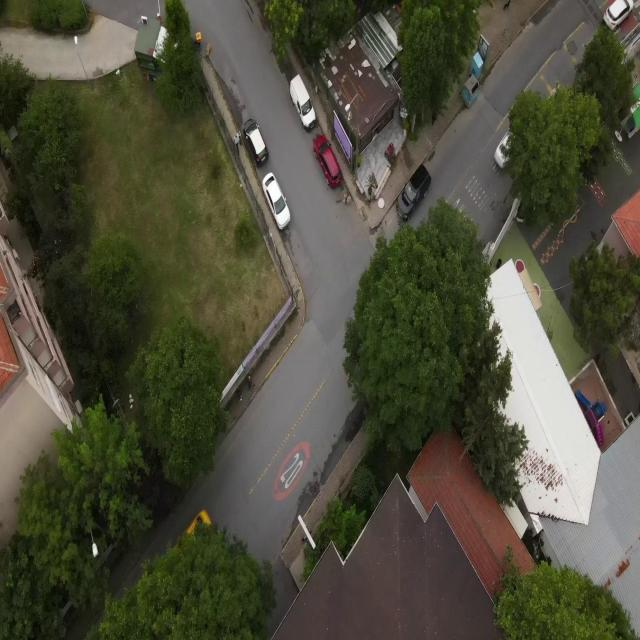p3rson: (246, 375, 256, 391), (233, 134, 240, 156), (235, 388, 242, 402), (237, 128, 242, 146)
